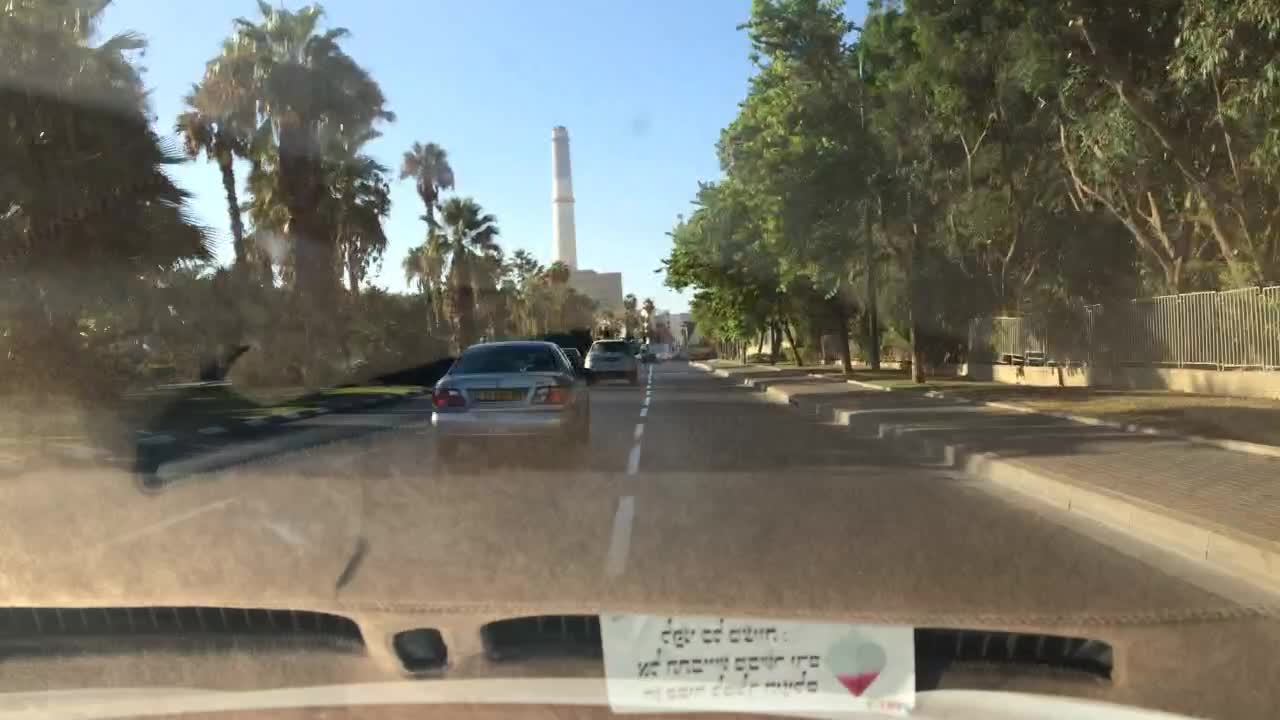car: (431, 341, 593, 465), (586, 336, 637, 385), (562, 346, 581, 378), (640, 345, 657, 368)
